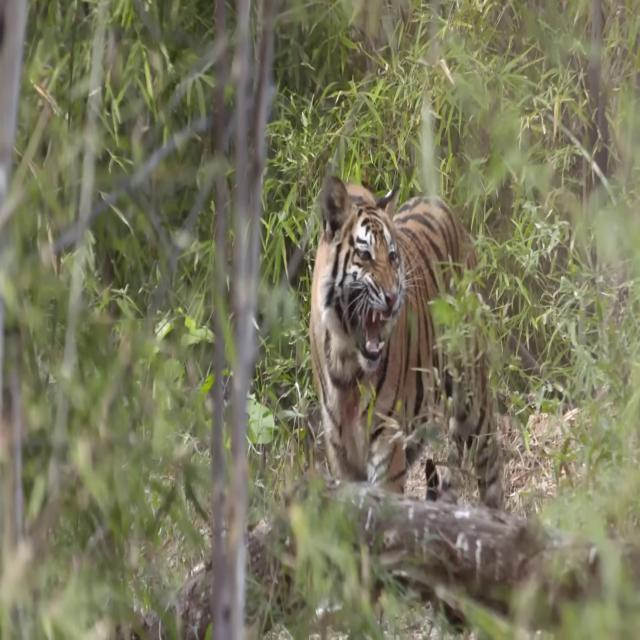tiger: (308, 173, 508, 507)
